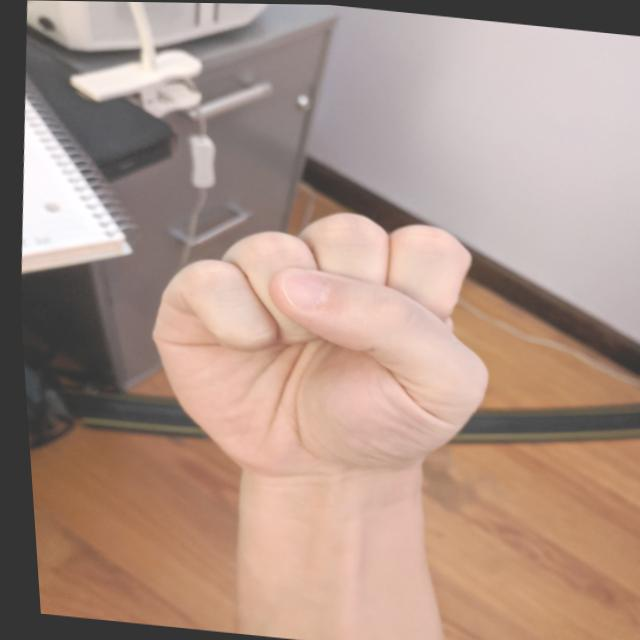S: (118, 184, 515, 502)
